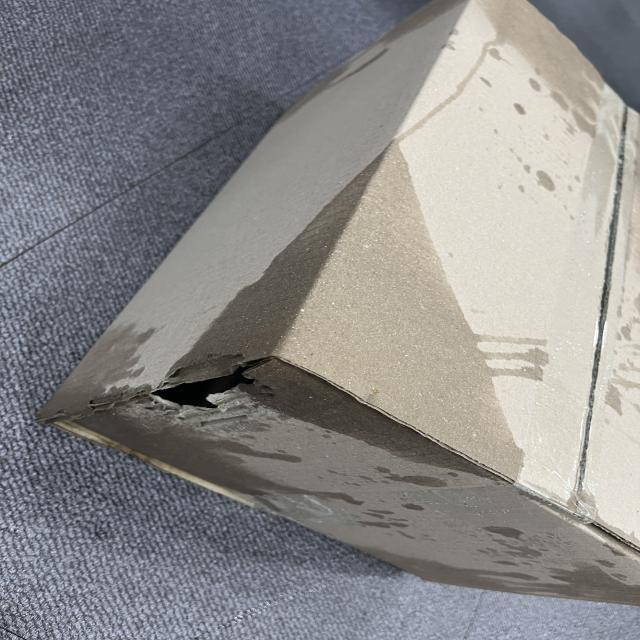hole: (147, 367, 245, 414)
wet: (155, 146, 526, 478), (46, 354, 179, 477), (481, 0, 613, 115)
